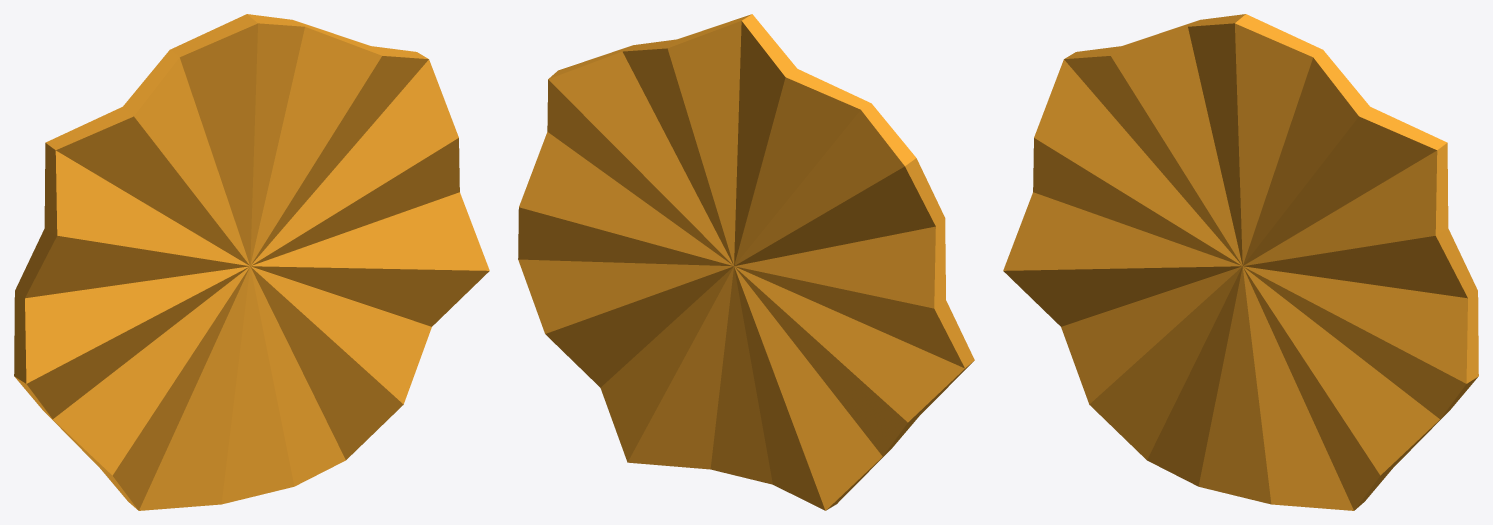
File: SM_Decor_Circle_B_4july.fbx
3 renders of one model, left to right at view 1: azimuth 30°, elevation 25°; view 2: azimuth 150°, elevation 25°; view 3: azimuth 330°, elevation 25°, orthographic. The views are drawn at different scales.
Parts seen in each view (by area): view 1: decor-circle-b-4july; view 2: decor-circle-b-4july; view 3: decor-circle-b-4july.
Boxes of the visible parts, bbox=[...] form: decor-circle-b-4july: bbox=[14, 14, 489, 510]; decor-circle-b-4july: bbox=[518, 14, 974, 510]; decor-circle-b-4july: bbox=[1003, 14, 1478, 510].
Size of the model in its own units: 0.2395 by 0.2337 by 0.024.
